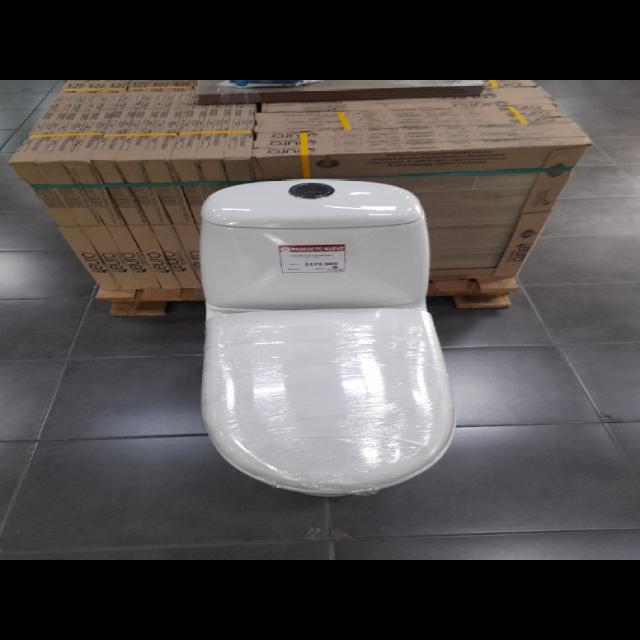toilet: (197, 177, 456, 497)
